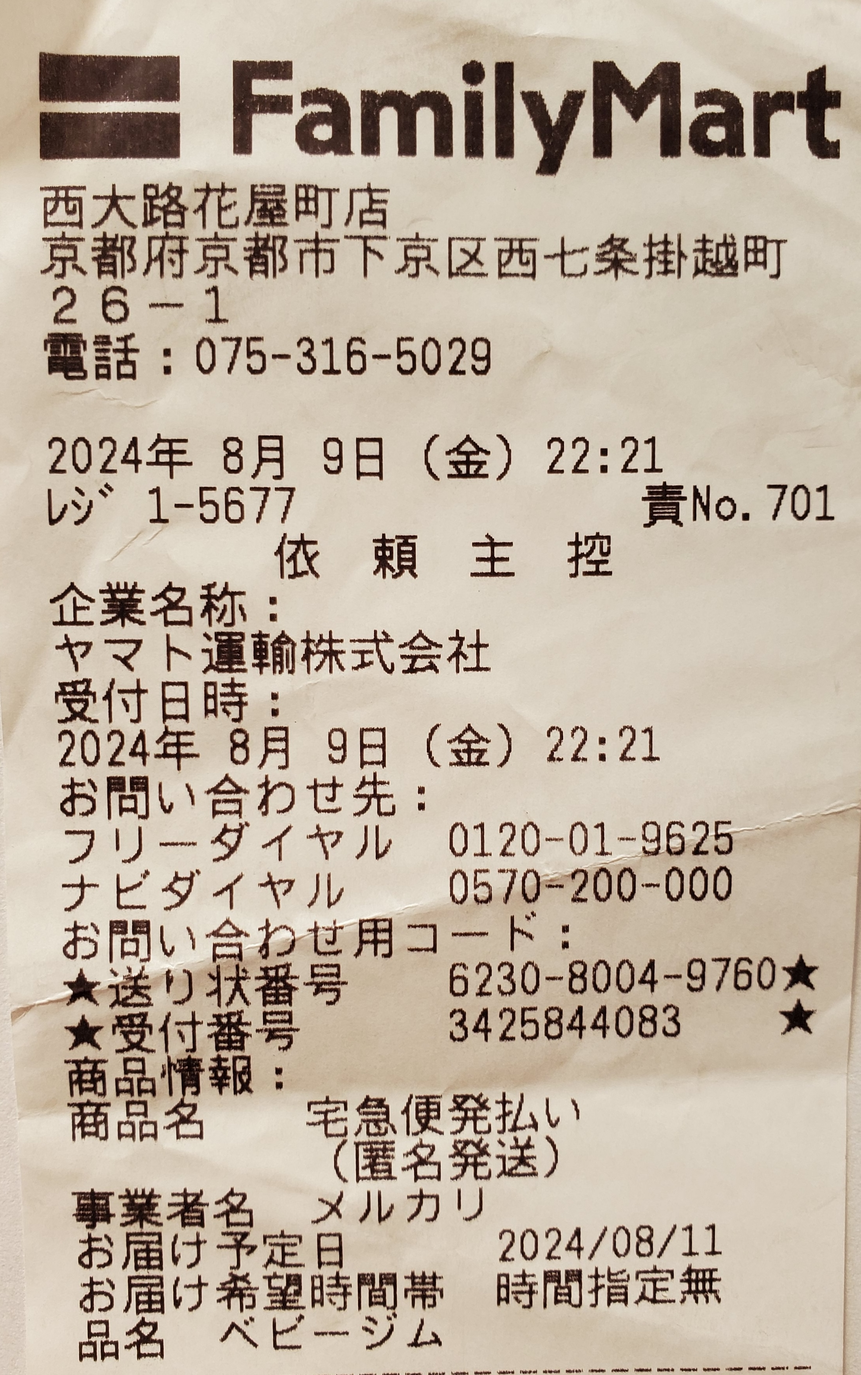Date: (45, 422, 408, 491)
Shopname: (214, 28, 852, 175)
Telnum: (188, 328, 510, 389)
